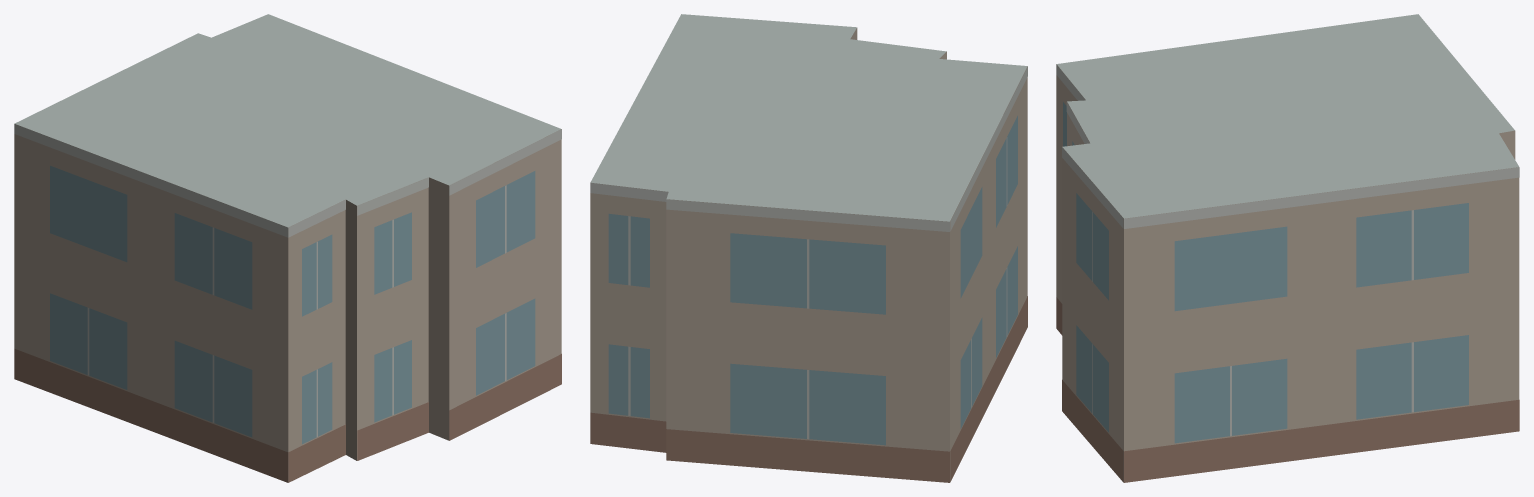
Rendered from survey-upis-32605468.glb.
The picture shows the model from 3 angles, left to right: view 1: azimuth 30°, elevation 25°; view 2: azimuth 150°, elevation 25°; view 3: azimuth 270°, elevation 25°; orthographic projection. The views are drawn at different scales.
Parts seen in each view (by area): view 1: survey-upis-32605468.tmp; view 2: survey-upis-32605468.tmp; view 3: survey-upis-32605468.tmp.
Boxes of the visible parts, x1,y1,x2,y2 form: survey-upis-32605468.tmp: (14,14,561,482); survey-upis-32605468.tmp: (590,14,1027,482); survey-upis-32605468.tmp: (1056,14,1519,482).
Size of the model in its own units: 10.14 by 6.1 by 9.7.
